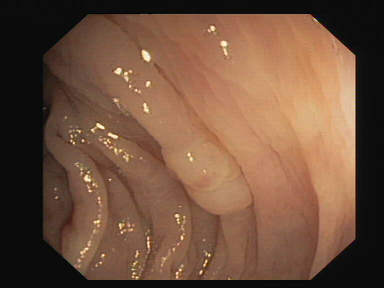polyp: (141, 112, 271, 225)
